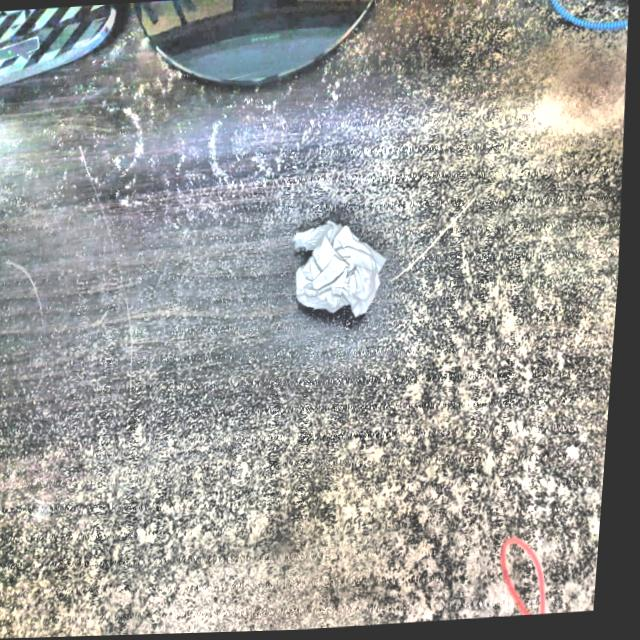Paper: (287, 215, 401, 329)
